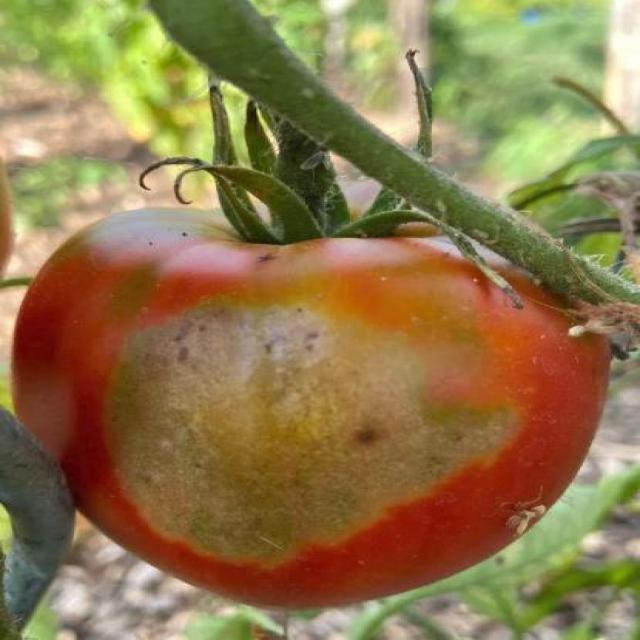Sunscald Fruit: (45, 180, 353, 374)
